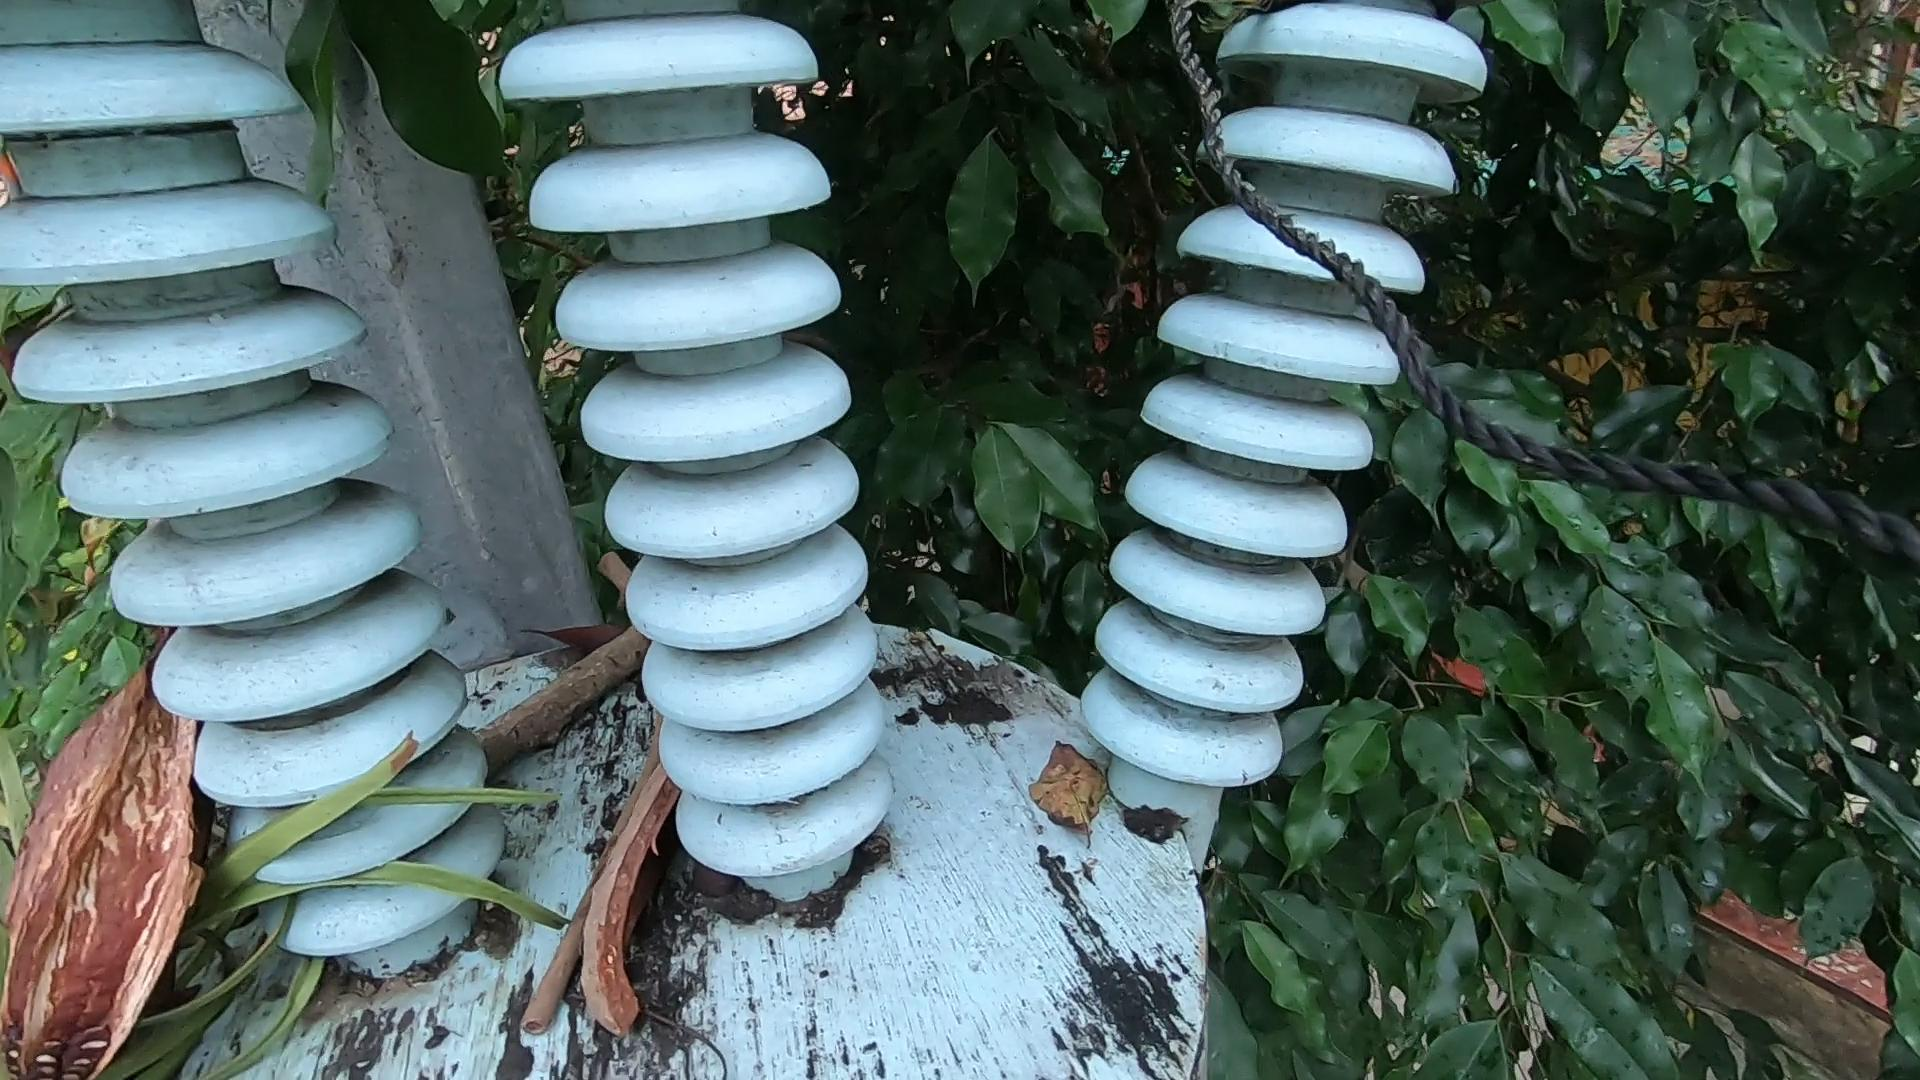branch with leaves: (8, 506, 702, 1080)
leaf: (1021, 711, 1151, 874)
mahogany fruit: (51, 655, 189, 1040), (603, 757, 691, 1025)
tree branch: (562, 506, 688, 1063)
